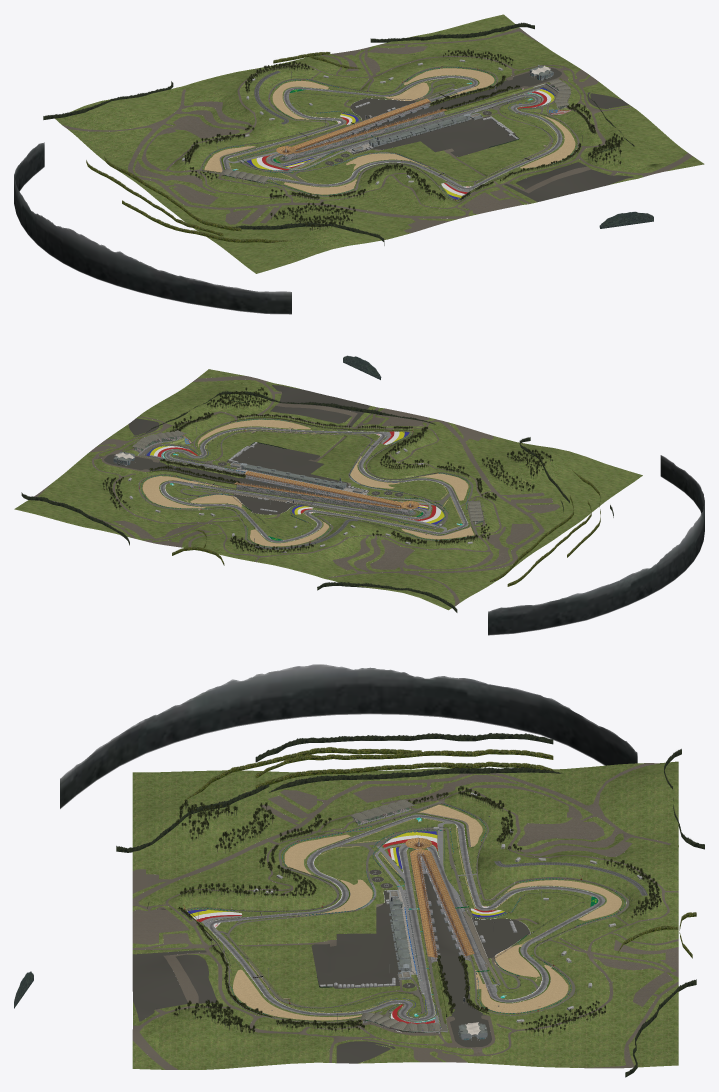
The model's file is sepang.glb.
3 views of the same model, one above another, from view 1: azimuth 30°, elevation 25°; view 2: azimuth 150°, elevation 25°; view 3: azimuth 270°, elevation 25° (orthographic). The views are drawn at different scales.
Parts seen in each view (by area): view 1: sepang_0, sepangmissing_1; view 2: sepang_0, sepangmissing_1; view 3: sepang_0, sepangmissing_1.
Part boxes in pixels (x1,y1,x2,y2): sepang_0: [14, 14, 704, 314]; sepangmissing_1: [325, 68, 634, 201]; sepang_0: [14, 355, 704, 635]; sepangmissing_1: [104, 385, 409, 514]; sepang_0: [14, 664, 704, 1077]; sepangmissing_1: [132, 869, 530, 1063].
Size of what is drawn, in the model's own units: 2192 by 167 by 1668.
Materials: 99 (98 with a texture image).
